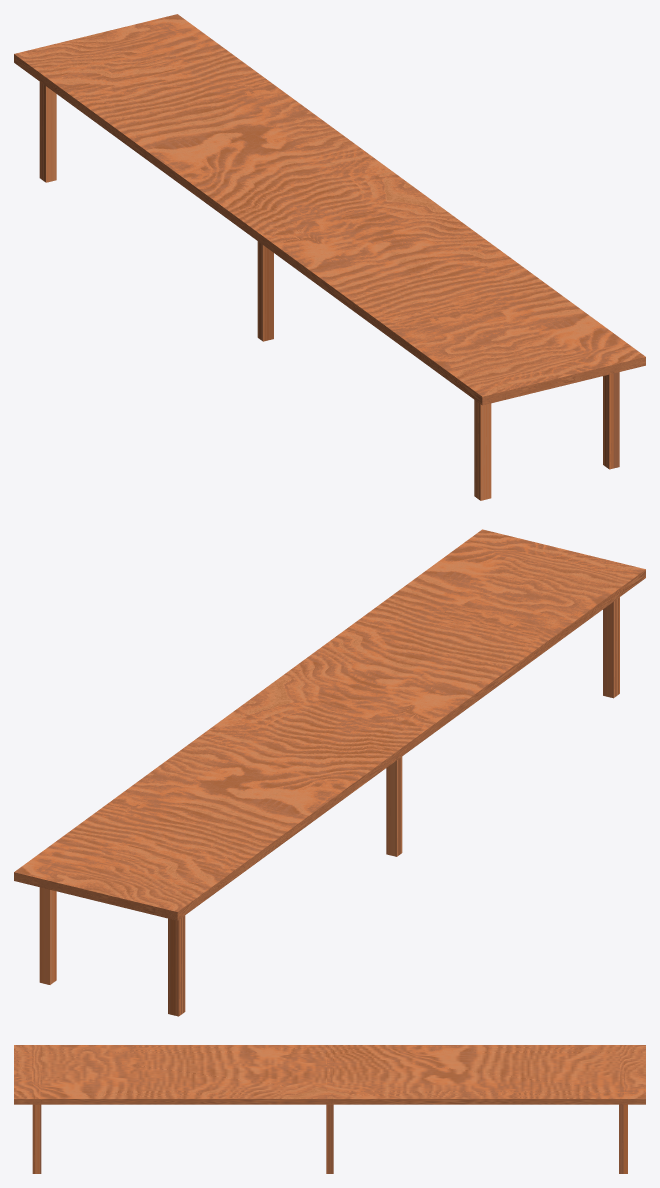
The model's file is stół-części.fbx.
The picture shows the model from 3 angles, top to bottom: view 1: azimuth 30°, elevation 25°; view 2: azimuth 150°, elevation 25°; view 3: azimuth 270°, elevation 25°; orthographic projection. The views are drawn at different scales.
Parts seen in each view (by area): view 1: Cube; view 2: Cube; view 3: Cube.
Boxes of the visible parts, x1,y1,x2,y2 form: Cube: (14,14,645,500); Cube: (14,529,645,1016); Cube: (14,1045,645,1173).
Bounding box in the file's own units: 344 × 235 × 1705.
